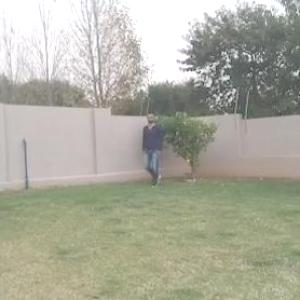follow: (145, 111, 164, 190)
